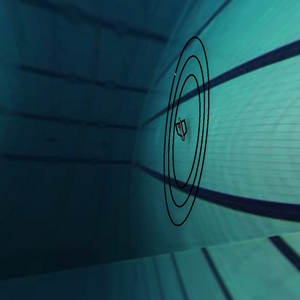circle: (144, 30, 240, 236)
submarine: (172, 106, 188, 151)
